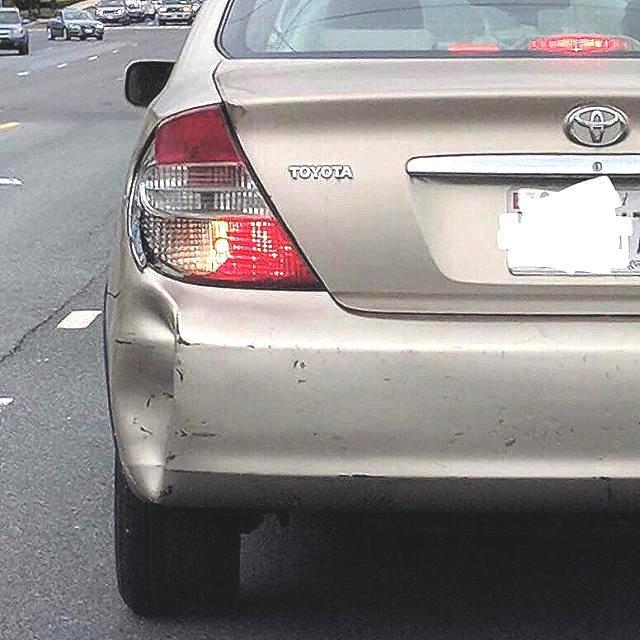minor: (115, 284, 180, 503), (440, 425, 555, 460), (179, 431, 226, 447), (290, 359, 308, 386)
moderate: (128, 107, 316, 285)
